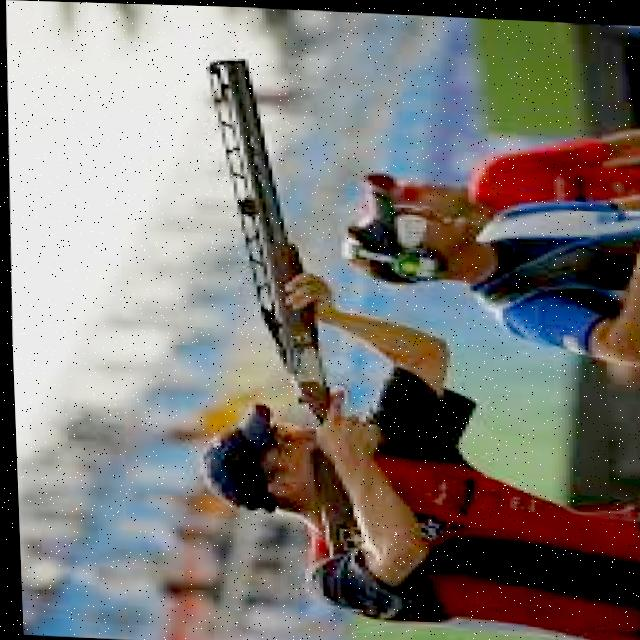firearm: (196, 55, 367, 549)
